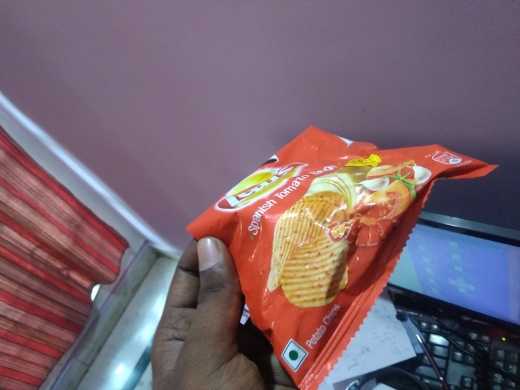lays: (160, 119, 493, 364)
